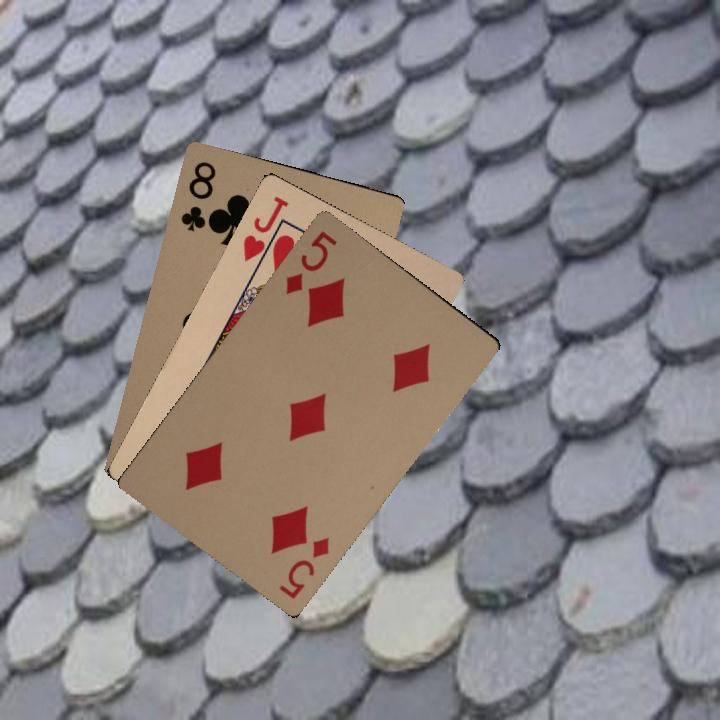5d: (281, 226, 340, 297), (275, 533, 332, 602)
8c: (177, 157, 219, 234)
Jh: (238, 192, 291, 271)
